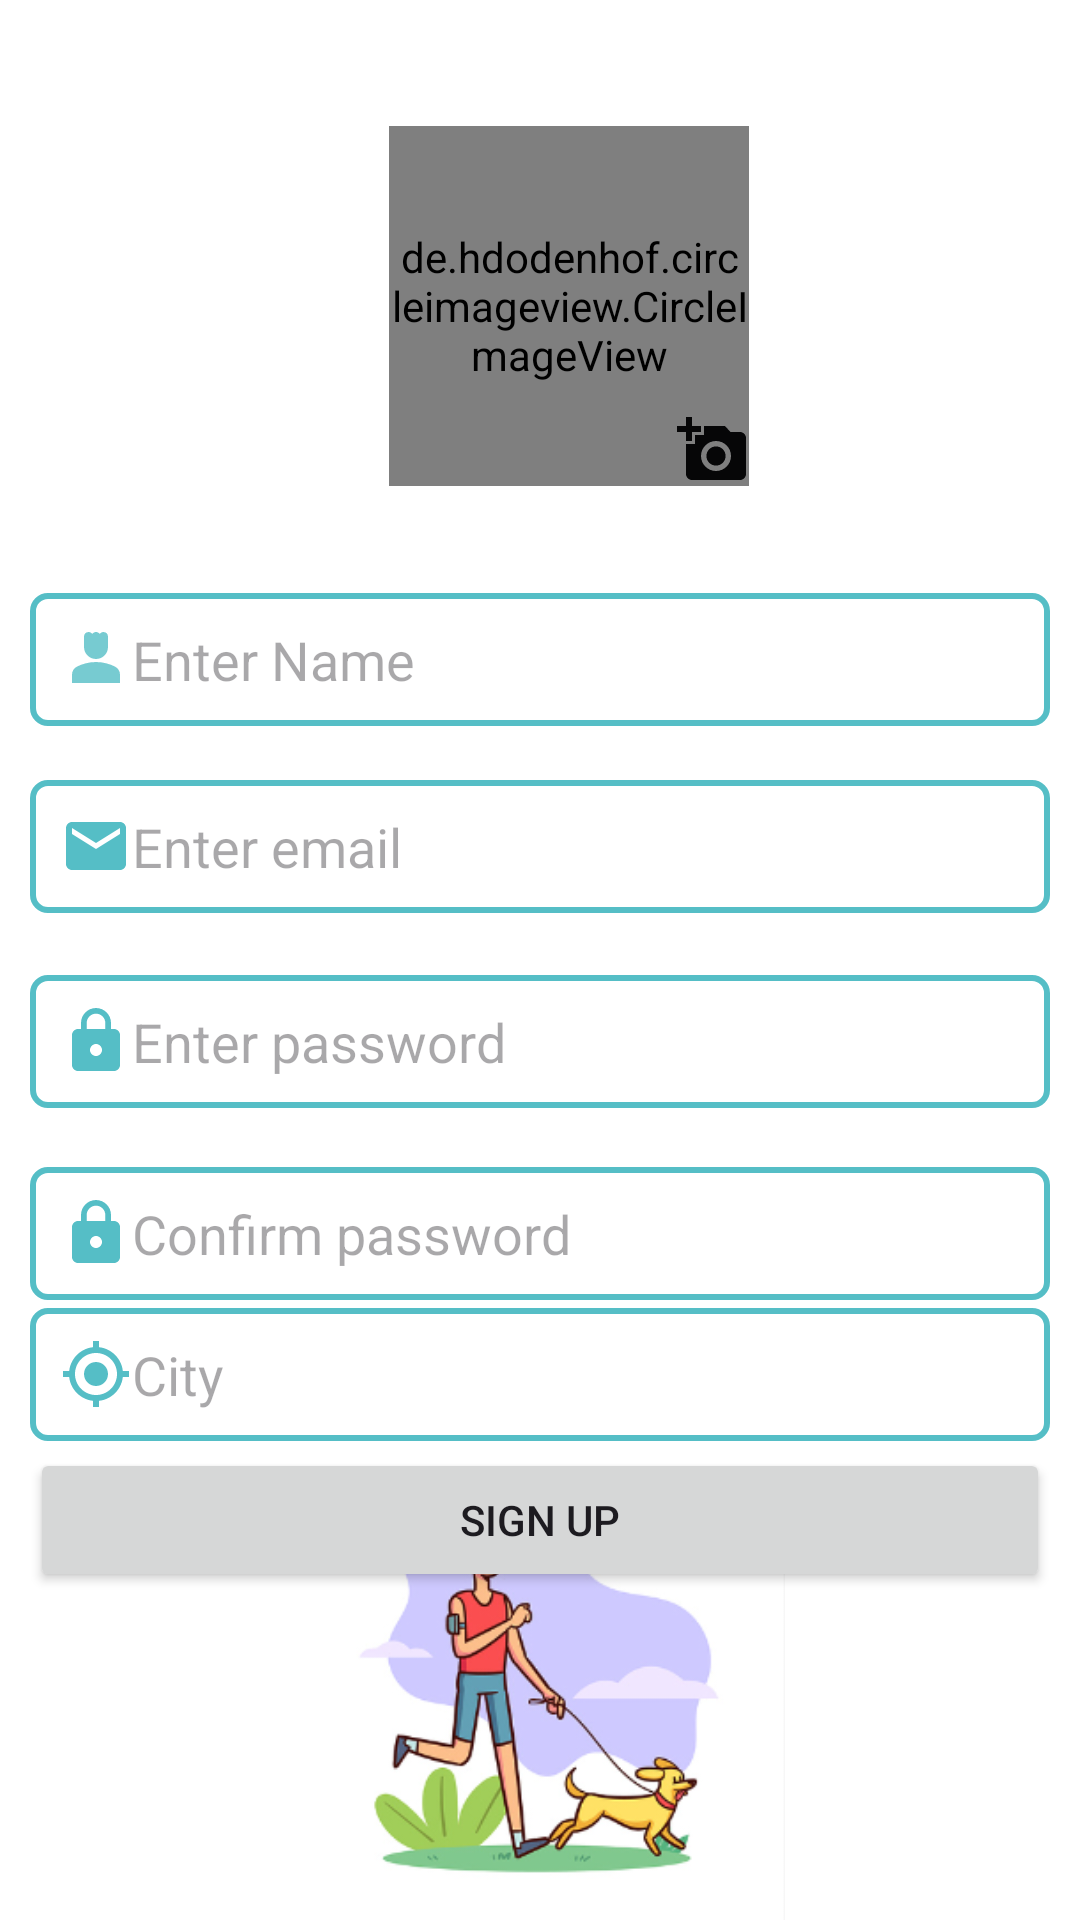

Icons on this 1080*1920 Android screen, each with the point to tap as (x=x, y=y):
add photo: (x=711, y=448)
